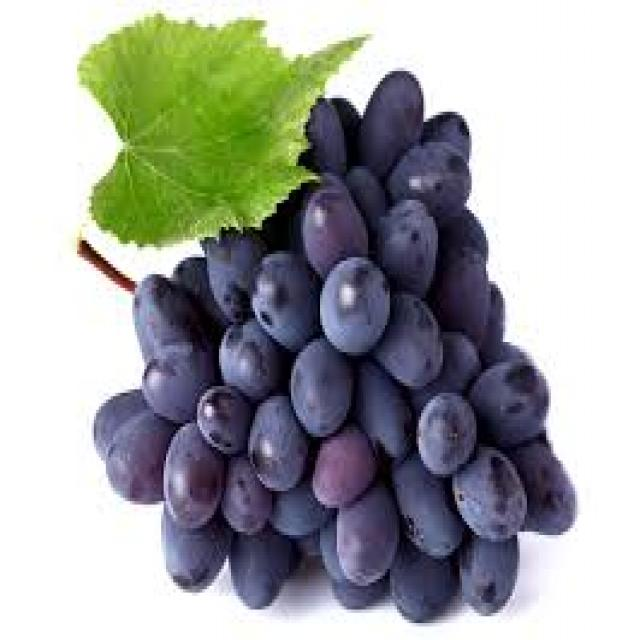organic waste: (92, 71, 572, 616), (70, 17, 370, 230), (390, 447, 462, 552), (354, 68, 421, 179), (452, 508, 518, 613), (250, 247, 315, 352), (378, 284, 440, 393), (354, 349, 414, 460), (467, 366, 546, 450), (106, 406, 178, 498), (161, 403, 217, 521), (226, 508, 296, 599), (452, 447, 524, 535), (294, 332, 351, 443), (200, 234, 270, 322), (159, 501, 231, 586), (300, 179, 366, 271), (390, 525, 455, 616), (130, 278, 209, 352), (387, 139, 467, 210), (246, 400, 306, 491), (217, 325, 291, 396), (411, 390, 474, 468), (515, 444, 573, 528), (340, 498, 400, 579), (140, 349, 217, 406), (438, 244, 481, 342), (313, 434, 375, 501), (84, 382, 149, 443), (217, 454, 264, 532), (274, 477, 325, 535), (301, 98, 339, 173), (440, 213, 484, 274), (436, 329, 476, 396), (317, 511, 349, 593), (421, 112, 467, 159), (479, 278, 500, 372), (339, 102, 358, 180), (337, 579, 392, 603), (298, 518, 320, 559)
